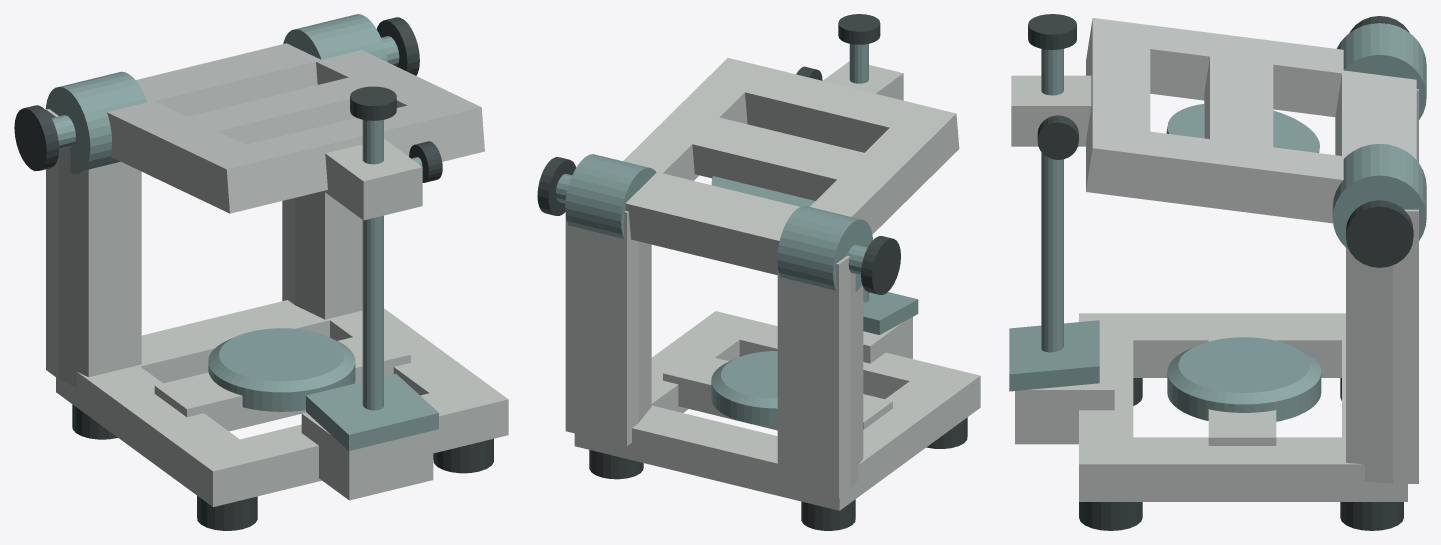
3 views of the same model, side by side, from view 1: azimuth 30°, elevation 25°; view 2: azimuth 150°, elevation 25°; view 3: azimuth 270°, elevation 25° (orthographic). The views are drawn at different scales.
Parts seen in each view (by area): view 1: WholeOpenUpperMountingYoke, WholeOpenLowerMountingFrame, WholeRearUpright_-0.076, WholeLowerEmptyMountingDisc, WholeRearUpright_0.076, WholeFrontPinTablePedestal, WholeSlopedIncisalTable, WholeUpperForwardPinGuide, WholeRearBearing_-0.076, WholeFixedFrontVerticalPin, WholeRearBearing_0.076, WholeOuterHingeCap_-0.12 (+7 smaller); view 2: WholeOpenUpperMountingYoke, WholeOpenLowerMountingFrame, WholeRearUpright_-0.076, WholeRearUpright_0.076, WholeRearBearing_-0.076, WholeRearBearing_0.076, WholeLowerEmptyMountingDisc, WholeOuterHingeCap_-0.12, WholeSlopedIncisalTable, WholeUpperForwardPinGuide, WholeFrontPinTablePedestal, WholeOuterHingeCap_0.112 (+7 smaller); view 3: WholeOpenUpperMountingYoke, WholeOpenLowerMountingFrame, WholeRearUpright_0.076, WholeLowerEmptyMountingDisc, WholeRearBearing_0.076, WholeFixedFrontVerticalPin, WholeFrontPinTablePedestal, WholeSlopedIncisalTable, WholeRearBearing_-0.076, WholeUpperForwardPinGuide, WholeOuterHingeCap_0.112, WholeUpperEmptyMountingDisc (+4 smaller).
Boxes of the visible parts, left/top/right/bottom form: WholeOpenUpperMountingYoke: left=107, top=43, right=484, bottom=213; WholeOpenLowerMountingFrame: left=56, top=300, right=508, bottom=506; WholeRearUpright_-0.076: left=46, top=109, right=141, bottom=387; WholeLowerEmptyMountingDisc: left=208, top=328, right=355, bottom=411; WholeRearUpright_0.076: left=282, top=191, right=362, bottom=319; WholeFrontPinTablePedestal: left=301, top=412, right=433, bottom=500; WholeSlopedIncisalTable: left=306, top=373, right=438, bottom=450; WholeUpperForwardPinGuide: left=323, top=139, right=422, bottom=220; WholeRearBearing_-0.076: left=45, top=71, right=146, bottom=174; WholeFixedFrontVerticalPin: left=362, top=119, right=383, bottom=410; WholeRearBearing_0.076: left=283, top=14, right=387, bottom=62; WholeOuterHingeCap_-0.12: left=14, top=105, right=59, bottom=171; WholeOpenUpperMountingYoke: left=623, top=58, right=959, bottom=275; WholeOpenLowerMountingFrame: left=574, top=311, right=980, bottom=510; WholeRearUpright_-0.076: left=777, top=249, right=863, bottom=497; WholeRearUpright_0.076: left=565, top=198, right=651, bottom=445; WholeRearBearing_-0.076: left=777, top=206, right=872, bottom=292; WholeRearBearing_0.076: left=565, top=154, right=656, bottom=238; WholeLowerEmptyMountingDisc: left=711, top=351, right=777, bottom=425; WholeOuterHingeCap_-0.12: left=861, top=236, right=900, bottom=294; WholeSlopedIncisalTable: left=863, top=292, right=918, bottom=334; WholeUpperForwardPinGuide: left=823, top=61, right=903, bottom=100; WholeFrontPinTablePedestal: left=863, top=317, right=912, bottom=363; WholeOuterHingeCap_0.112: left=537, top=157, right=576, bottom=215; WholeOpenUpperMountingYoke: left=1086, top=18, right=1416, bottom=223; WholeOpenLowerMountingFrame: left=1079, top=313, right=1407, bottom=501; WholeRearUpright_0.076: left=1346, top=209, right=1418, bottom=483; WholeLowerEmptyMountingDisc: left=1167, top=337, right=1321, bottom=421; WholeRearBearing_0.076: left=1332, top=143, right=1426, bottom=249; WholeFixedFrontVerticalPin: left=1041, top=48, right=1063, bottom=352; WholeFrontPinTablePedestal: left=1015, top=347, right=1114, bottom=444; WholeSlopedIncisalTable: left=1009, top=320, right=1099, bottom=391; WholeRearBearing_-0.076: left=1336, top=23, right=1426, bottom=119; WholeUpperForwardPinGuide: left=1011, top=75, right=1091, bottom=146; WholeOuterHingeCap_0.112: left=1346, top=200, right=1413, bottom=267; WholeUpperEmptyMountingDisc: left=1166, top=103, right=1319, bottom=152.
Size of the model in its own units: 0.24 by 0.254 by 0.222.
